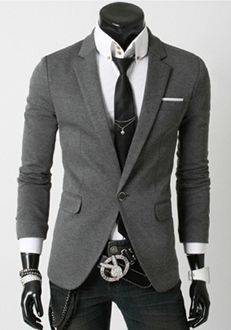F_M_suit jacket: (16, 24, 213, 292)
F_tie: (108, 54, 141, 166)
